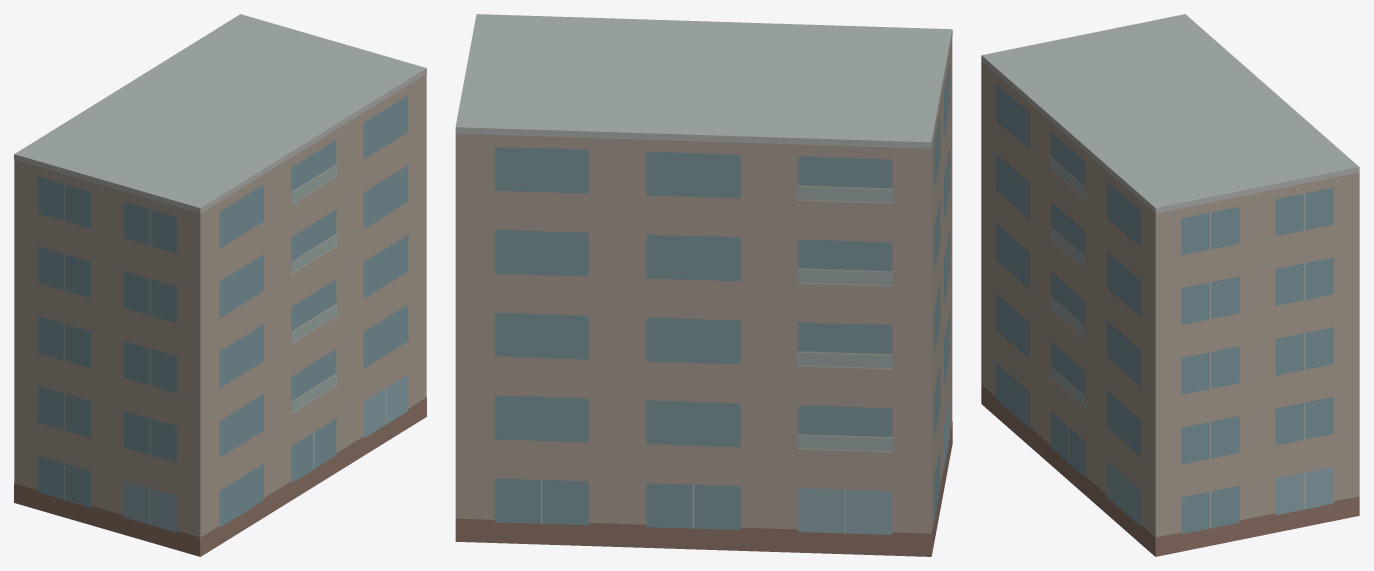
Rendered from survey-upis-32637210.glb.
The picture shows the model from 3 angles, left to right: view 1: azimuth 30°, elevation 25°; view 2: azimuth 150°, elevation 25°; view 3: azimuth 270°, elevation 25°; orthographic projection. The views are drawn at different scales.
Parts seen in each view (by area): view 1: survey-upis-32637210.tmp; view 2: survey-upis-32637210.tmp; view 3: survey-upis-32637210.tmp.
Part boxes in pixels (x1,y1,x2,y2): survey-upis-32637210.tmp: [14, 14, 426, 556]; survey-upis-32637210.tmp: [455, 14, 952, 556]; survey-upis-32637210.tmp: [981, 14, 1359, 556].
Bounding box in the file's own units: 18.63 × 15.6 × 15.33.
